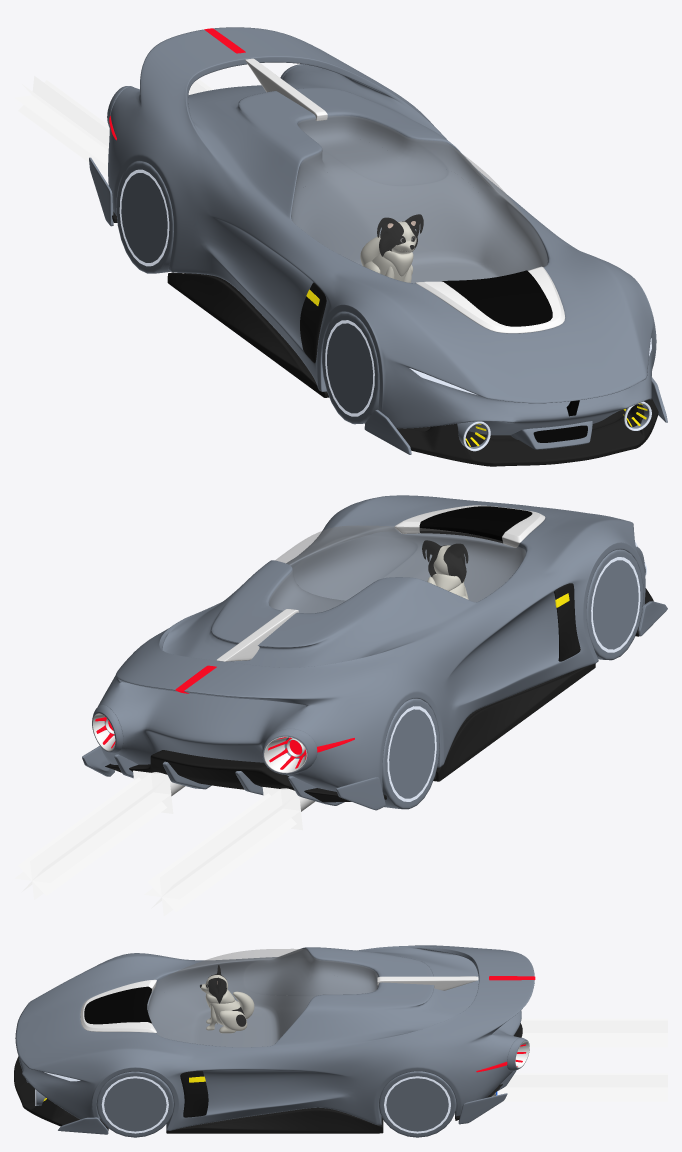
3 renders of one model, top to bottom at view 1: azimuth 30°, elevation 25°; view 2: azimuth 150°, elevation 25°; view 3: azimuth 270°, elevation 25°, orthographic. The views are drawn at different scales.
Visible parts, largest first — view 1: Body.005, Window.001, Bottom_Part.005, Wheel, Plane.001, Hood_Acc, Hood_Part, Front_Acc.001, Side_Part, Bottom_Part.003, Body.002, Roundcube.001 (+2 smaller); view 2: Body.005, Window.001, Wheel, Plane, Plane.001, Bottom_Part.005, Bottom_Part.001, Bottom_Part.002, Hood_Acc, Rear_Lamp, Hood_Part, Side_Part (+3 smaller); view 3: Body.005, Window.001, Wheel, Bottom_Part.005, Plane, Plane.001, Hood_Acc, Hood_Part, Side_Part, Body.002, Bottom_Part.002, Bottom_Part.003 (+4 smaller).
Part boxes in pixels (<box>): Body.005: <box>108,27,656,435</box>; Window.001: <box>291,116,547,282</box>; Bottom_Part.005: <box>167,272,658,466</box>; Wheel: <box>116,161,379,424</box>; Plane.001: <box>14,76,109,176</box>; Hood_Acc: <box>442,270,552,326</box>; Hood_Part: <box>415,266,565,333</box>; Front_Acc.001: <box>510,421,592,449</box>; Side_Part: <box>300,282,326,363</box>; Bottom_Part.003: <box>364,377,667,454</box>; Body.002: <box>245,58,327,120</box>; Roundcube.001: <box>377,214,423,256</box>; Body.005: <box>98,495,645,791</box>; Window.001: <box>269,525,525,612</box>; Wheel: <box>382,549,643,809</box>; Plane: <box>14,770,173,899</box>; Plane.001: <box>144,787,302,915</box>; Bottom_Part.005: <box>433,588,653,781</box>; Bottom_Part.001: <box>105,750,386,802</box>; Bottom_Part.002: <box>82,746,385,810</box>; Hood_Acc: <box>419,506,532,543</box>; Rear_Lamp: <box>92,705,317,774</box>; Hood_Part: <box>394,505,545,547</box>; Side_Part: <box>554,583,580,661</box>; Body.005: <box>15,945,534,1130</box>; Window.001: <box>147,949,378,1046</box>; Wheel: <box>96,1071,456,1137</box>; Bottom_Part.005: <box>14,1056,383,1133</box>; Plane: <box>500,1073,667,1101</box>; Plane.001: <box>520,1018,667,1047</box>; Hood_Acc: <box>84,986,151,1024</box>; Hood_Part: <box>80,979,156,1032</box>; Side_Part: <box>180,1070,208,1117</box>; Body.002: <box>377,976,478,990</box>; Bottom_Part.002: <box>458,1070,516,1124</box>; Bottom_Part.003: <box>58,1117,108,1134</box>.
Bounding box in the file's own units: 2.17 × 1.33 × 6.24.
Materials: 16 (5 with a texture image).
